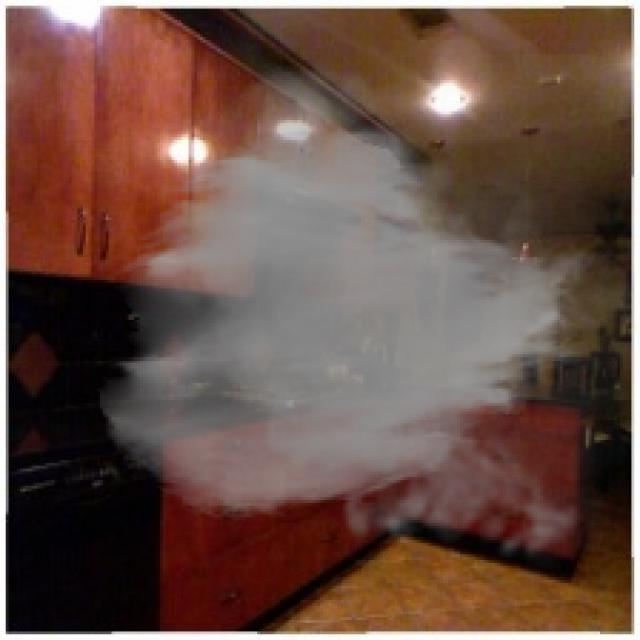smoke: (95, 54, 634, 574)
